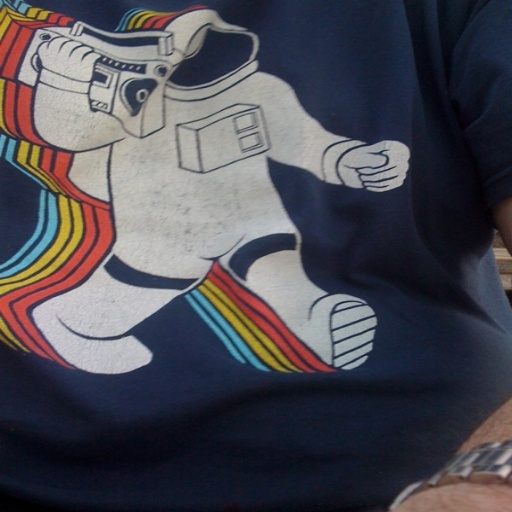hand: (315, 121, 417, 186), (35, 34, 103, 82)
